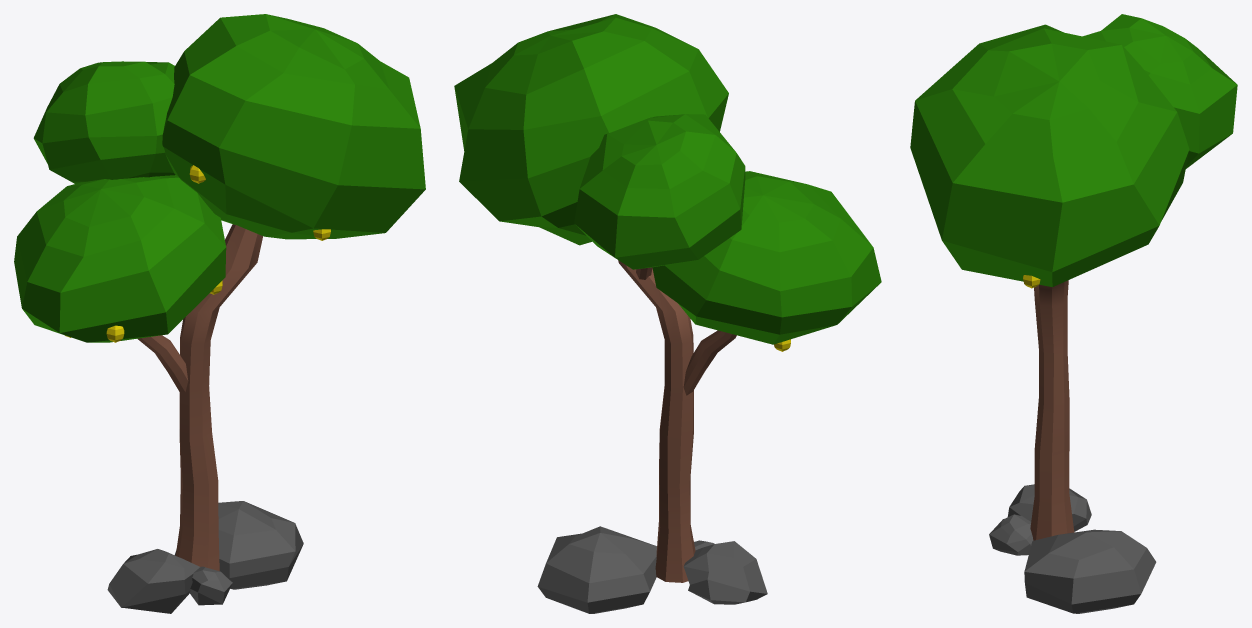
Rendered from LemonTree.fbx.
The picture shows the model from 3 angles, left to right: view 1: azimuth 30°, elevation 25°; view 2: azimuth 150°, elevation 25°; view 3: azimuth 270°, elevation 25°; orthographic projection. The views are drawn at different scales.
Parts seen in each view (by area): view 1: pSphere2, pSphere1, pSphere3, TreeeBase, Rock01, Rock02, Rock03, TreeeBase1; view 2: pSphere2, pSphere1, pSphere3, TreeeBase, Rock01, Rock02, TreeeBase1; view 3: pSphere2, pSphere3, Rock01, TreeeBase, Rock03, Rock02.
Boxes of the visible parts, x1,y1,x2,y2 form: pSphere2: [162, 14, 425, 239]; pSphere1: [14, 175, 226, 342]; pSphere3: [33, 61, 175, 183]; TreeeBase: [175, 224, 262, 571]; Rock01: [175, 501, 303, 589]; Rock02: [107, 549, 199, 613]; Rock03: [189, 566, 232, 605]; TreeeBase1: [137, 335, 188, 392]; pSphere2: [454, 14, 728, 245]; pSphere1: [652, 171, 881, 344]; pSphere3: [574, 114, 745, 269]; TreeeBase: [618, 260, 695, 582]; Rock01: [537, 526, 656, 613]; Rock02: [683, 541, 767, 604]; TreeeBase1: [683, 330, 736, 395]; pSphere2: [910, 24, 1189, 287]; pSphere3: [1083, 14, 1237, 168]; Rock01: [1024, 529, 1156, 613]; TreeeBase: [1030, 280, 1074, 540]; Rock03: [989, 514, 1033, 555]; Rock02: [1007, 484, 1091, 531].
Bounding box in the file's own units: 4 × 5.43 × 2.84.
